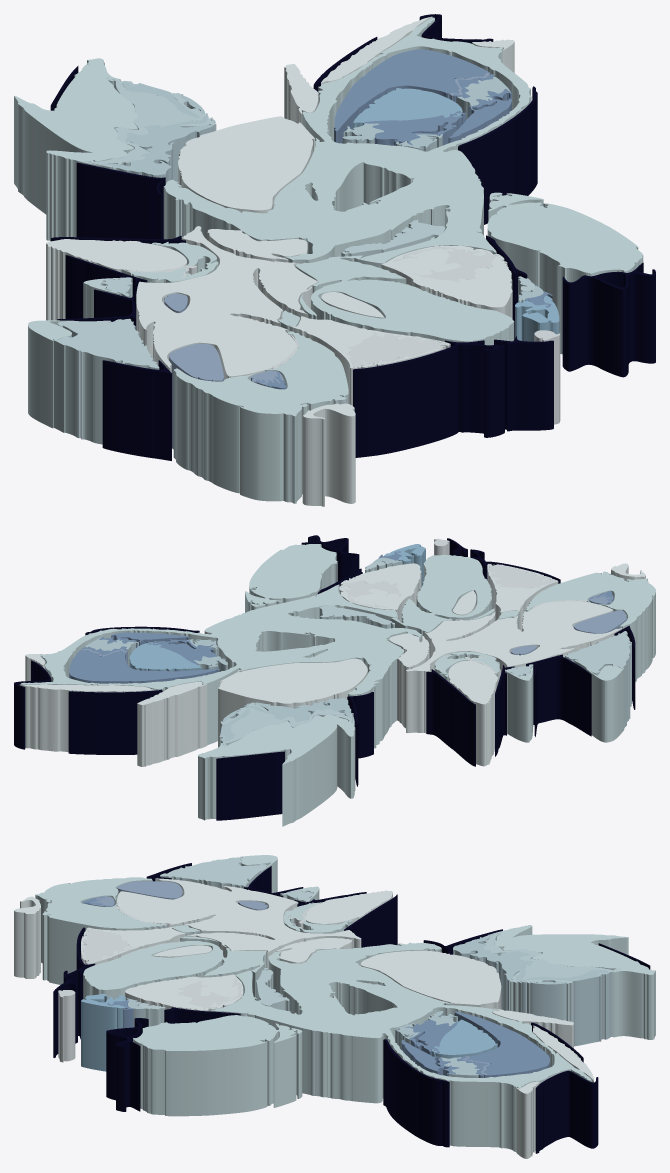
3 renders of one model, top to bottom at view 1: azimuth 30°, elevation 25°; view 2: azimuth 150°, elevation 25°; view 3: azimuth 270°, elevation 25°, orthographic. The views are drawn at different scales.
Parts seen in each view (by area): view 1: imagetostl_mesh1, imagetostl_mesh78, imagetostl_mesh19, imagetostl_mesh6, imagetostl_mesh0, imagetostl_mesh21, imagetostl_mesh76, imagetostl_mesh3, imagetostl_mesh5, imagetostl_mesh94, imagetostl_mesh4, imagetostl_mesh7 (+35 smaller); view 2: imagetostl_mesh1, imagetostl_mesh19, imagetostl_mesh0, imagetostl_mesh4, imagetostl_mesh21, imagetostl_mesh90, imagetostl_mesh32, imagetostl_mesh98, imagetostl_mesh82, imagetostl_mesh3, imagetostl_mesh5, imagetostl_mesh84 (+35 smaller); view 3: imagetostl_mesh1, imagetostl_mesh0, imagetostl_mesh2, imagetostl_mesh19, imagetostl_mesh21, imagetostl_mesh80, imagetostl_mesh86, imagetostl_mesh3, imagetostl_mesh5, imagetostl_mesh4, imagetostl_mesh7, imagetostl_mesh6 (+33 smaller).
Part boxes in pixels (<box>): imagetostl_mesh1: <box>164,17,531,341</box>; imagetostl_mesh78: <box>353,340,504,457</box>; imagetostl_mesh19: <box>136,226,317,376</box>; imagetostl_mesh6: <box>173,333,348,503</box>; imagetostl_mesh0: <box>163,19,531,345</box>; imagetostl_mesh21: <box>178,116,314,210</box>; imagetostl_mesh76: <box>562,263,655,377</box>; imagetostl_mesh3: <box>487,192,642,273</box>; imagetostl_mesh5: <box>14,58,138,166</box>; imagetostl_mesh94: <box>102,360,171,460</box>; imagetostl_mesh4: <box>14,60,137,241</box>; imagetostl_mesh7: <box>174,331,348,416</box>; imagetostl_mesh1: <box>21,554,491,694</box>; imagetostl_mesh19: <box>406,601,621,671</box>; imagetostl_mesh0: <box>20,564,491,748</box>; imagetostl_mesh4: <box>198,721,355,826</box>; imagetostl_mesh21: <box>218,658,367,703</box>; imagetostl_mesh90: <box>68,690,162,754</box>; imagetostl_mesh32: <box>137,684,207,766</box>; imagetostl_mesh98: <box>216,751,284,820</box>; imagetostl_mesh82: <box>526,655,591,736</box>; imagetostl_mesh3: <box>245,544,337,606</box>; imagetostl_mesh5: <box>198,714,354,764</box>; imagetostl_mesh84: <box>426,669,475,766</box>; imagetostl_mesh1: <box>83,941,591,1087</box>; imagetostl_mesh0: <box>83,944,591,1151</box>; imagetostl_mesh2: <box>133,1024,302,1116</box>; imagetostl_mesh19: <box>117,878,361,952</box>; imagetostl_mesh21: <box>361,950,501,1004</box>; imagetostl_mesh80: <box>383,1040,449,1147</box>; imagetostl_mesh86: <box>535,1071,598,1153</box>; imagetostl_mesh3: <box>133,1015,302,1050</box>; imagetostl_mesh5: <box>488,925,655,974</box>; imagetostl_mesh4: <box>487,926,655,1039</box>; imagetostl_mesh7: <box>35,877,166,928</box>; imagetostl_mesh6: <box>35,880,166,984</box>.
Bounding box in the file's own units: 78.62 × 10 × 89.32.
